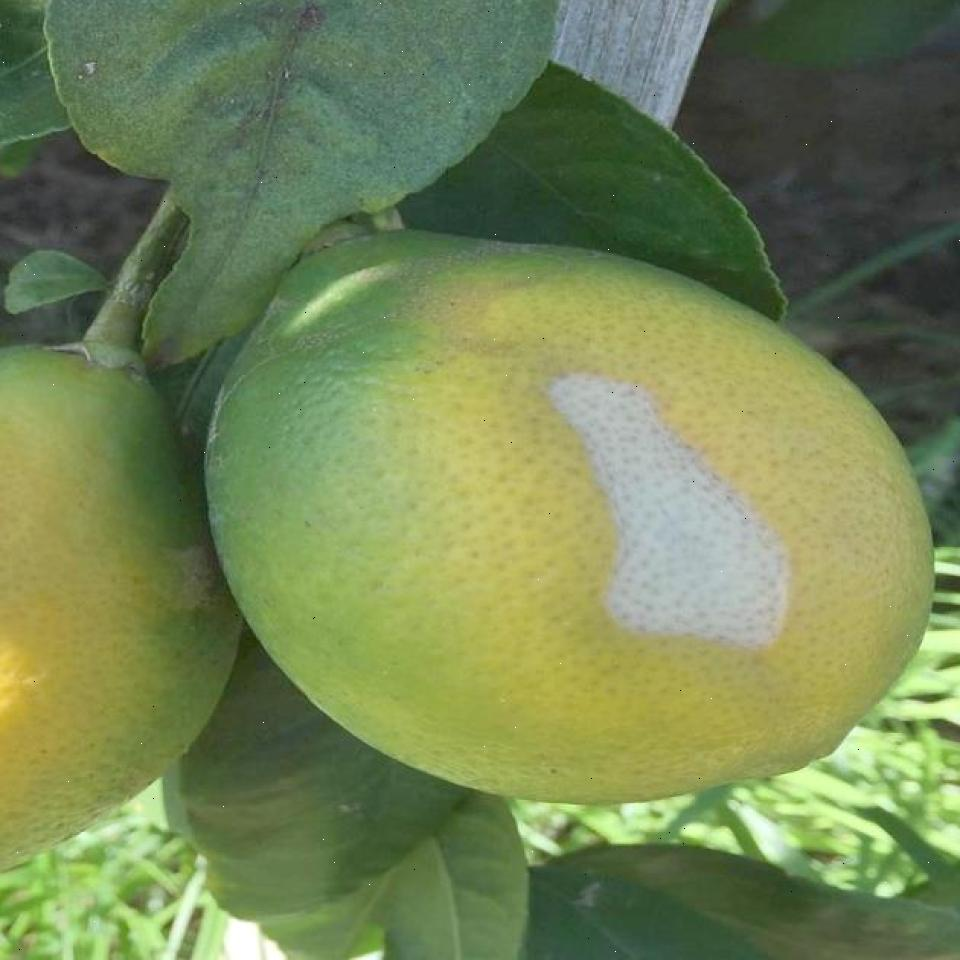Sunscald: (515, 360, 791, 659)
